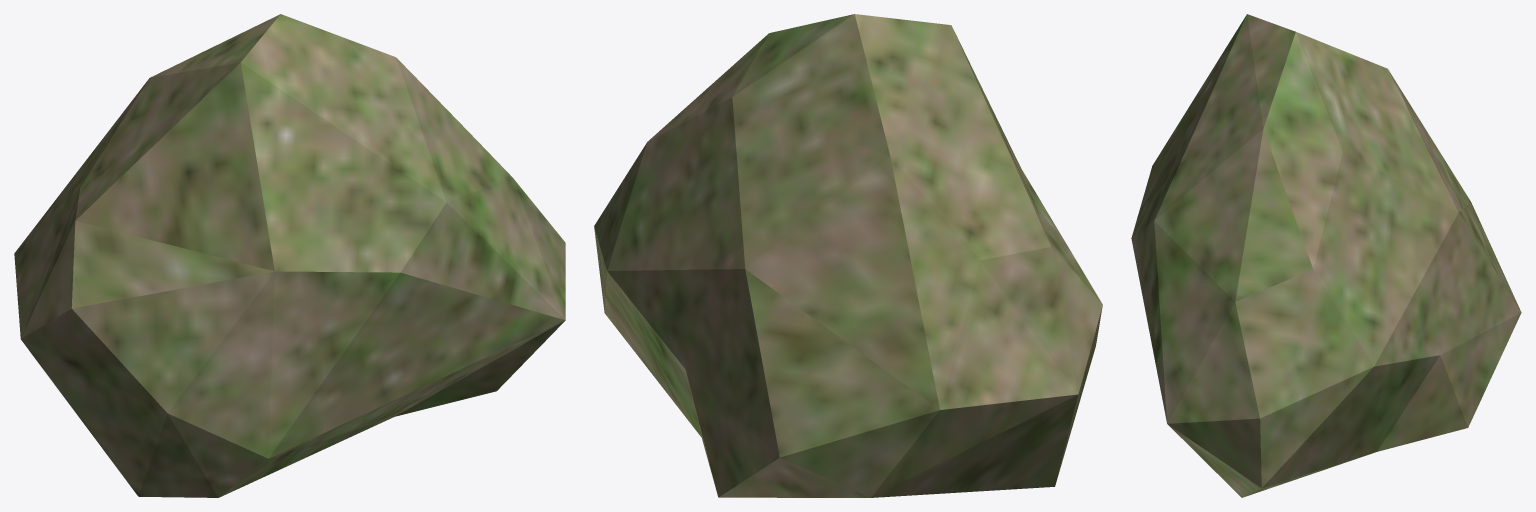
Rendered from ground_chunk002.fbx.
The picture shows the model from 3 angles, left to right: view 1: azimuth 30°, elevation 25°; view 2: azimuth 150°, elevation 25°; view 3: azimuth 270°, elevation 25°; orthographic projection. The views are drawn at different scales.
Parts seen in each view (by area): view 1: Icosphere.001; view 2: Icosphere.001; view 3: Icosphere.001.
Boxes of the visible parts, box(x1,y1,x2,y2) form: Icosphere.001: box(14, 14, 565, 497); Icosphere.001: box(594, 14, 1102, 497); Icosphere.001: box(1131, 14, 1521, 497).
Size of the model in its own units: 779 by 630 by 555.
